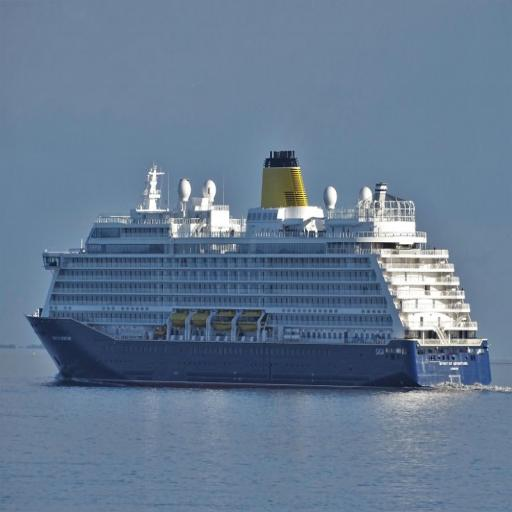cruises: (21, 147, 496, 397)
